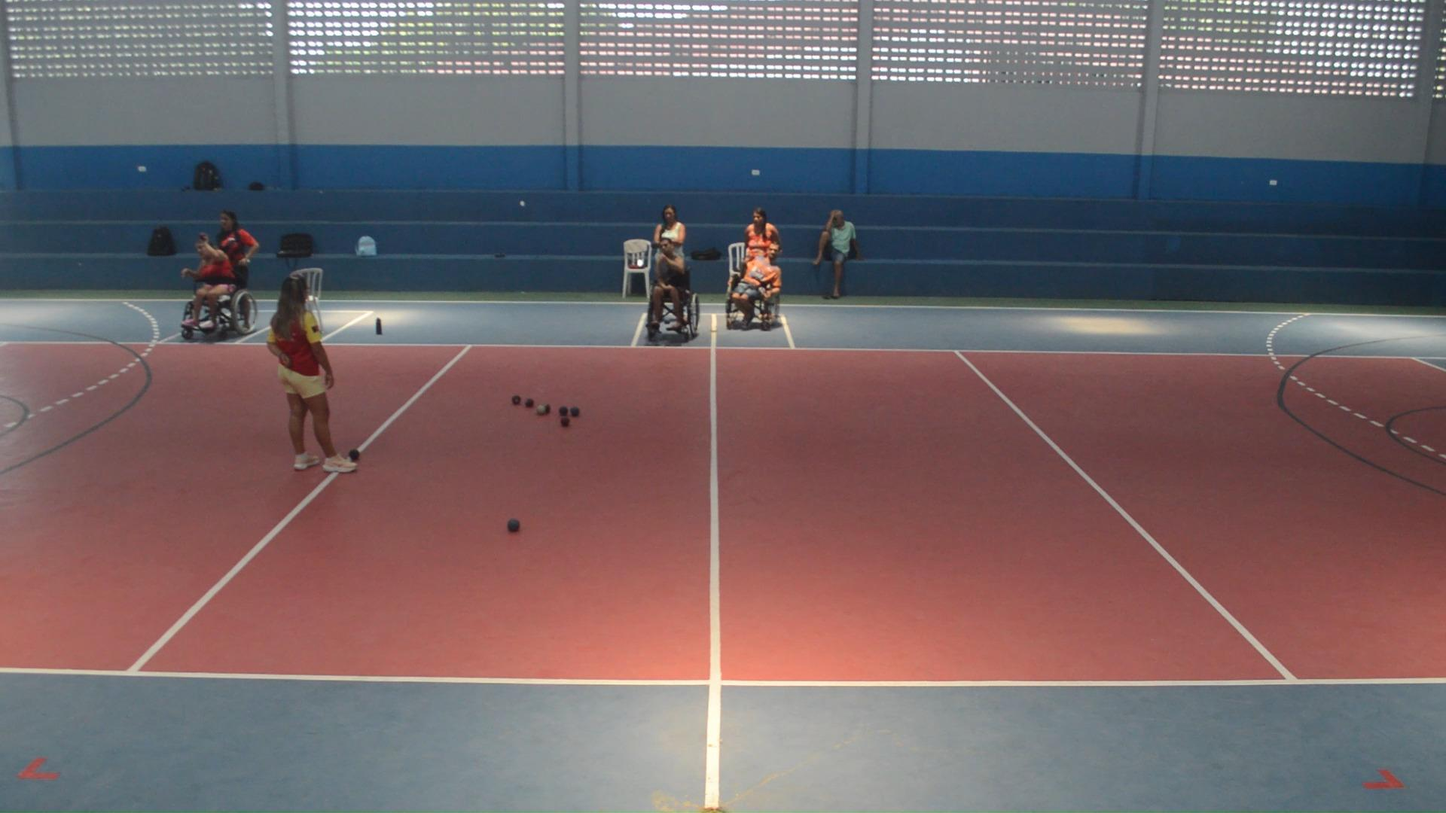blue_ball: (507, 519, 520, 531), (349, 448, 360, 461), (570, 406, 579, 416), (559, 407, 567, 415)
red_ball: (560, 416, 570, 427), (512, 396, 521, 404), (526, 399, 533, 407), (544, 403, 550, 412)
white_ball: (537, 406, 545, 415)
